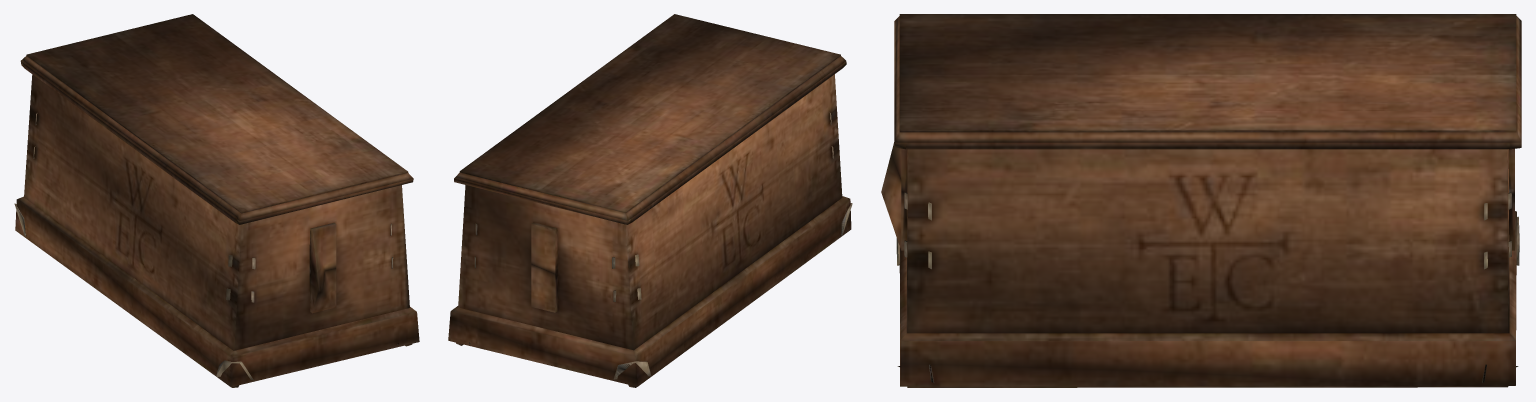
Rendered from PH_Crate.glb.
3 renders of one model, left to right at view 1: azimuth 30°, elevation 25°; view 2: azimuth 150°, elevation 25°; view 3: azimuth 270°, elevation 25°, orthographic. The views are drawn at different scales.
Visible parts, largest first — view 1: wooden_crate_02_crate, wooden_crate_02_lid; view 2: wooden_crate_02_crate, wooden_crate_02_lid; view 3: wooden_crate_02_crate, wooden_crate_02_lid.
Boxes of the visible parts, x1,y1,x2,y2 form: wooden_crate_02_crate: (14, 74, 419, 387); wooden_crate_02_lid: (20, 14, 413, 224); wooden_crate_02_crate: (448, 74, 852, 387); wooden_crate_02_lid: (454, 14, 846, 224); wooden_crate_02_crate: (881, 142, 1519, 387); wooden_crate_02_lid: (894, 14, 1521, 149).
Bounding box in the file's own units: 0.5292 × 0.4628 × 1.06.
Materials: 1 (1 with a texture image).
